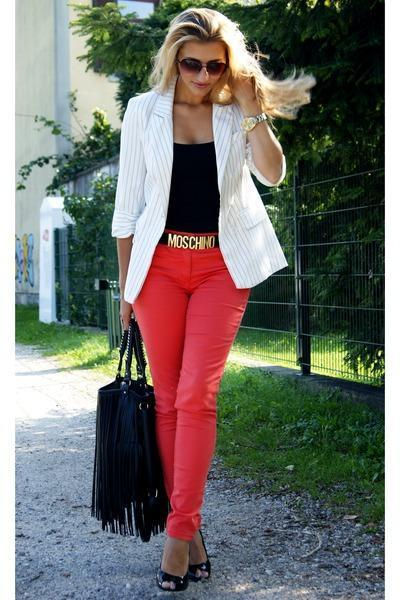bag: (88, 307, 171, 539)
jacket: (112, 84, 289, 303)
pants: (132, 244, 249, 539)
shirt: (158, 141, 219, 247)
shoe: (158, 542, 212, 591)
sunglass: (182, 41, 230, 75)
